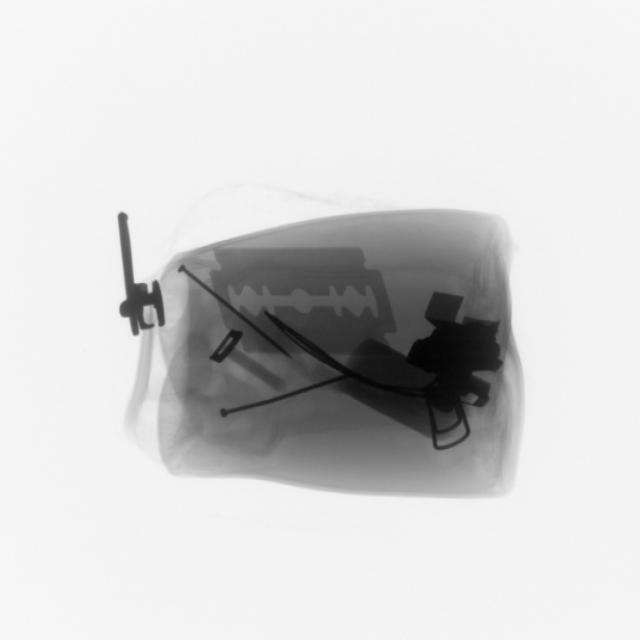BLADE: (191, 237, 407, 354)
